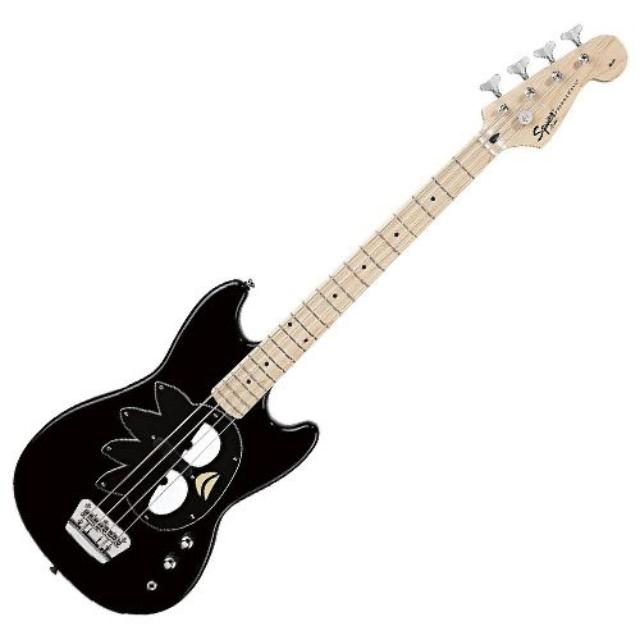Electric-Guitar: (14, 26, 631, 617)
